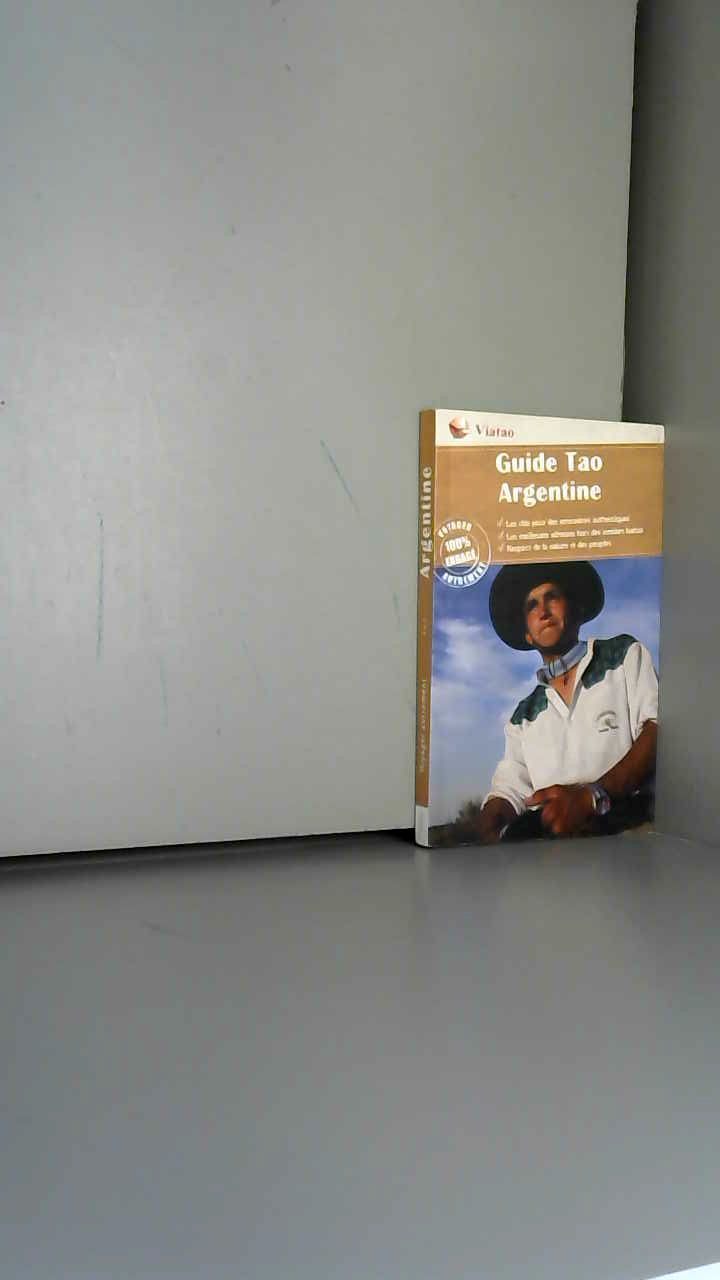book: (400, 380, 720, 871)
